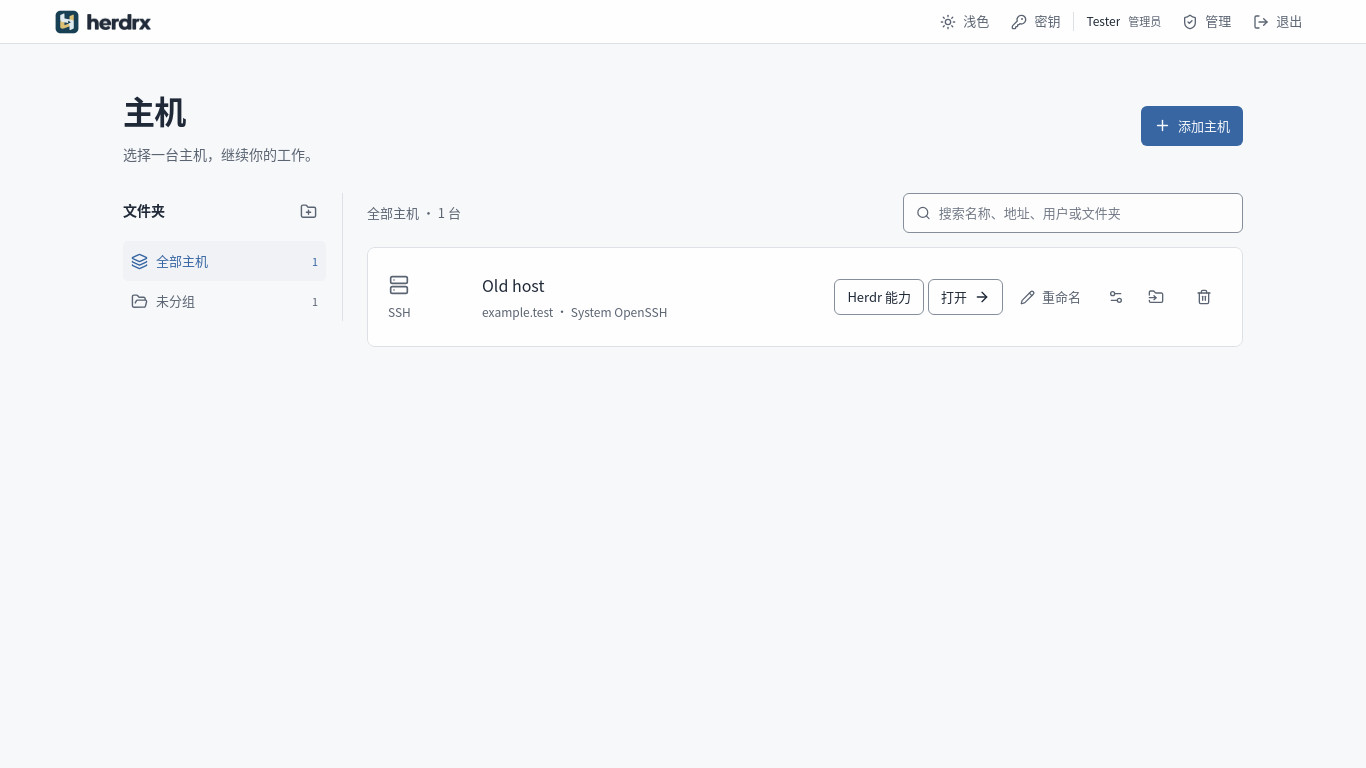
System OpenSSH connection settings › preserves port 0 when saving an existing system host
Click the button named "连接设置 Old host" at coordinates (1116, 297), box [1098,279,1134,315]
(page scrolled)
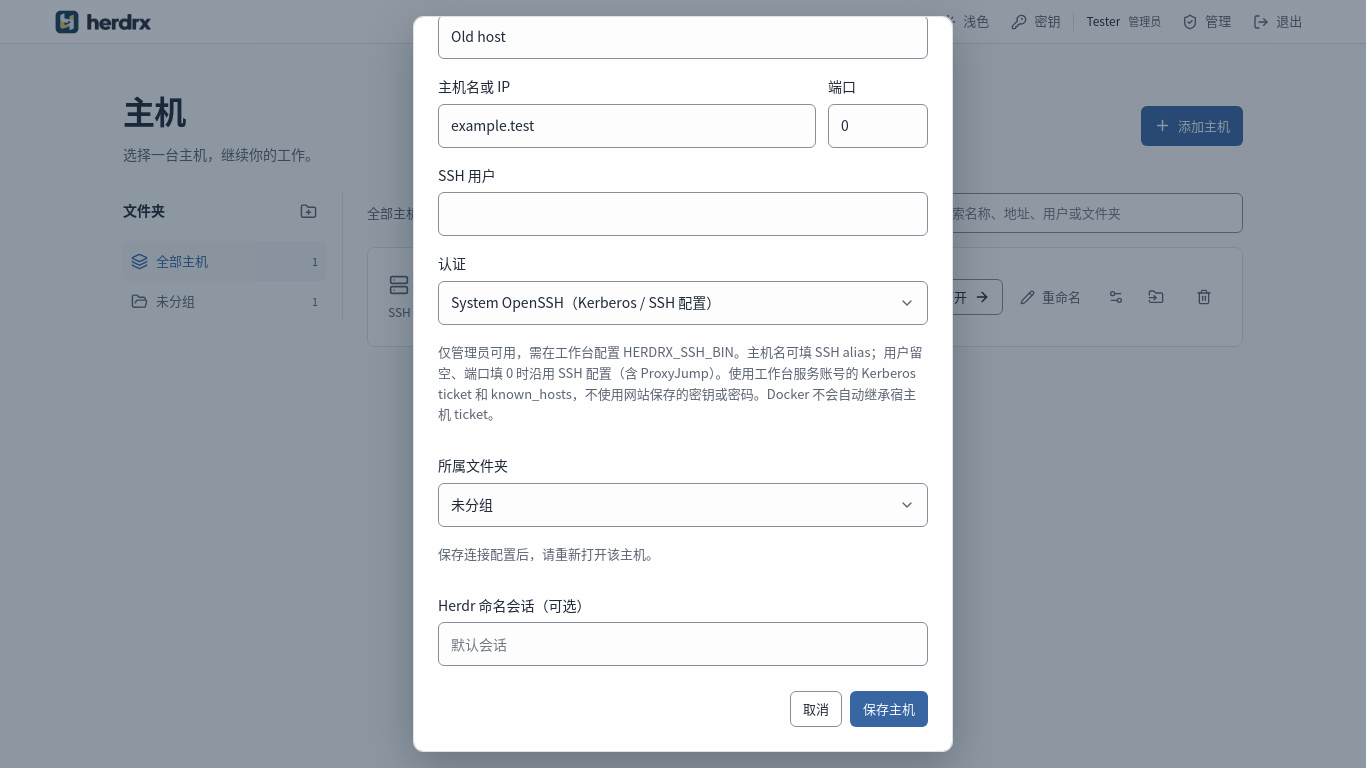
expect the number field labelled "端口" holds "0": met, box [828,104,928,148]
Click the button "保存主机" at coordinates (889, 709), box [850,691,928,727]
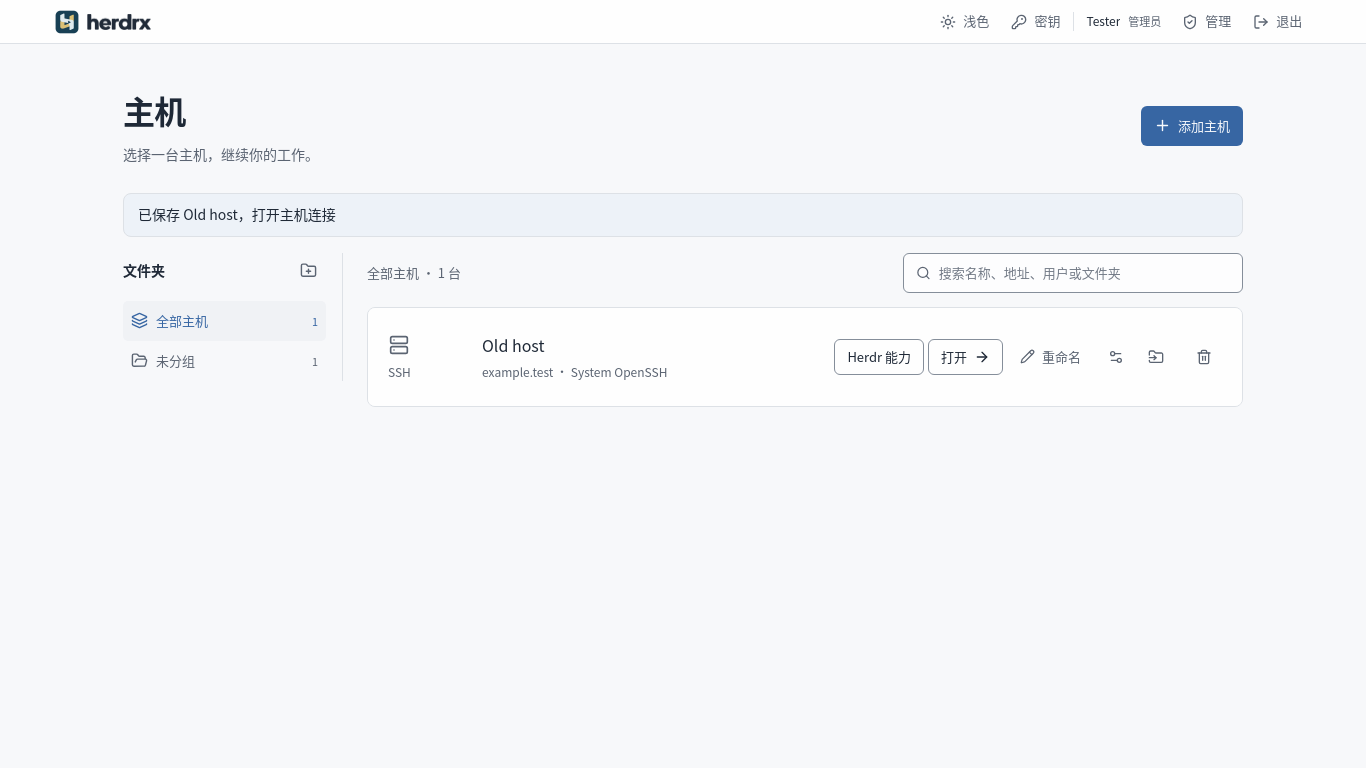
expect the message reads "已保存 Old host，打开主机连接": met, box [138,204,336,224]
